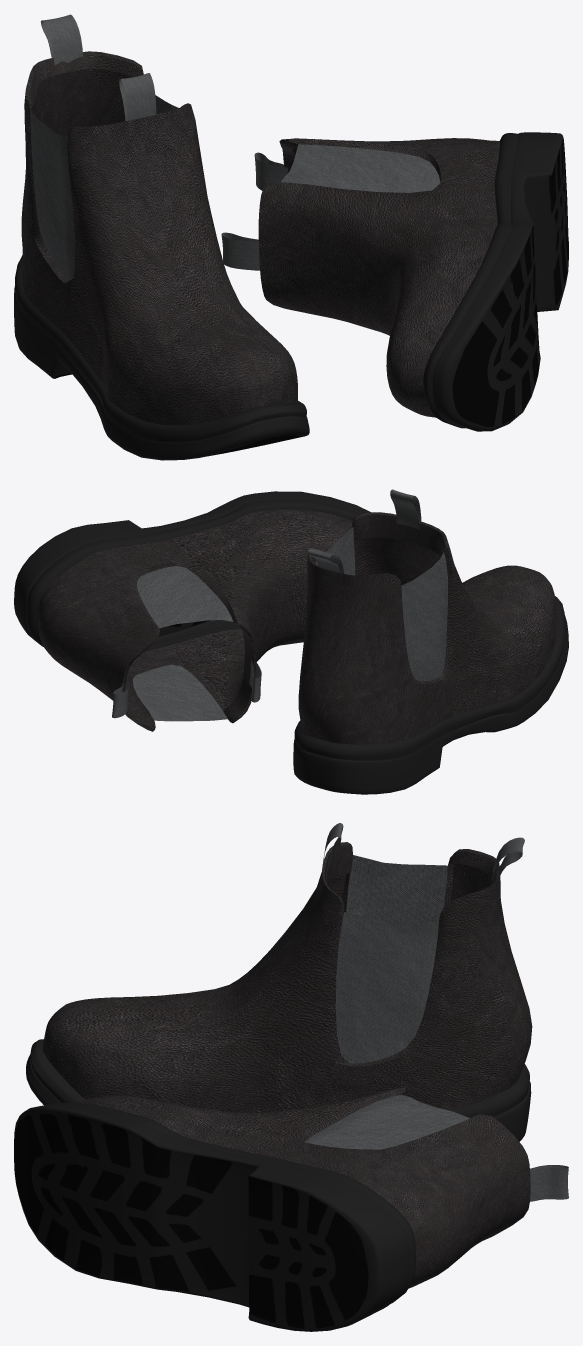
3 views of the same model, one above another, from view 1: azimuth 30°, elevation 25°; view 2: azimuth 150°, elevation 25°; view 3: azimuth 270°, elevation 25° (orthographic). The views are drawn at different scales.
Visible parts, largest first — view 1: Boots; view 2: Boots; view 3: Boots.
Part boxes in pixels (left/top/right/bottom): Boots: left=14, top=14, right=568, bottom=460; Boots: left=14, top=489, right=568, bottom=794; Boots: left=14, top=823, right=568, bottom=1331.
Size of the model in its own units: 15.31 by 8.4 by 13.51.
Materials: 4 (4 with a texture image).
